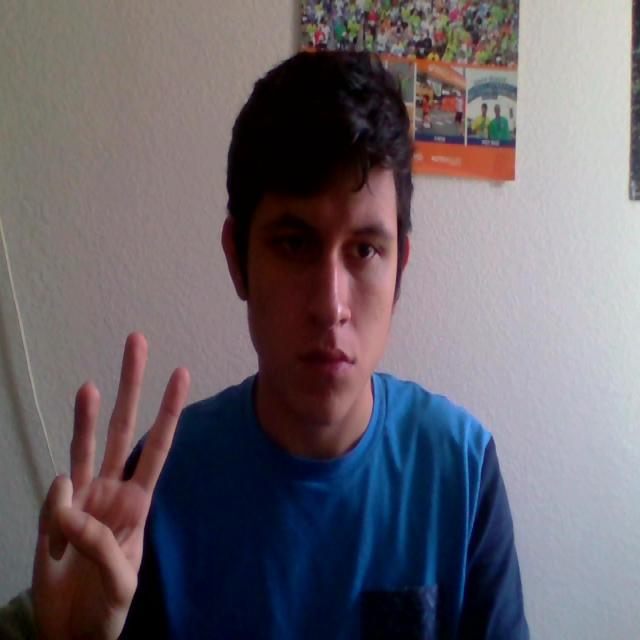W: (29, 293, 201, 640)
